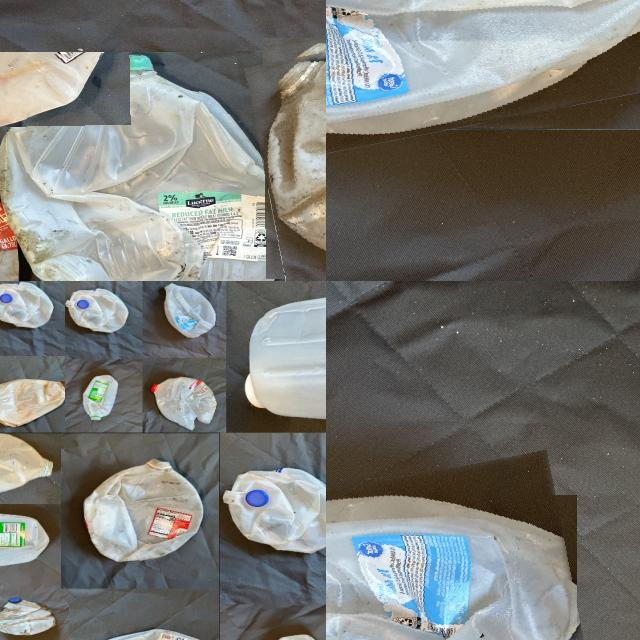milk-jug: (0, 50, 295, 281), (326, 0, 640, 155), (326, 472, 587, 640), (254, 24, 326, 281), (84, 454, 209, 562), (246, 286, 326, 416), (230, 460, 326, 553), (148, 372, 222, 426), (0, 375, 67, 429), (0, 508, 53, 575), (0, 430, 53, 496), (158, 282, 218, 338), (65, 284, 132, 334), (0, 593, 56, 640), (76, 372, 122, 424), (0, 281, 51, 327)
